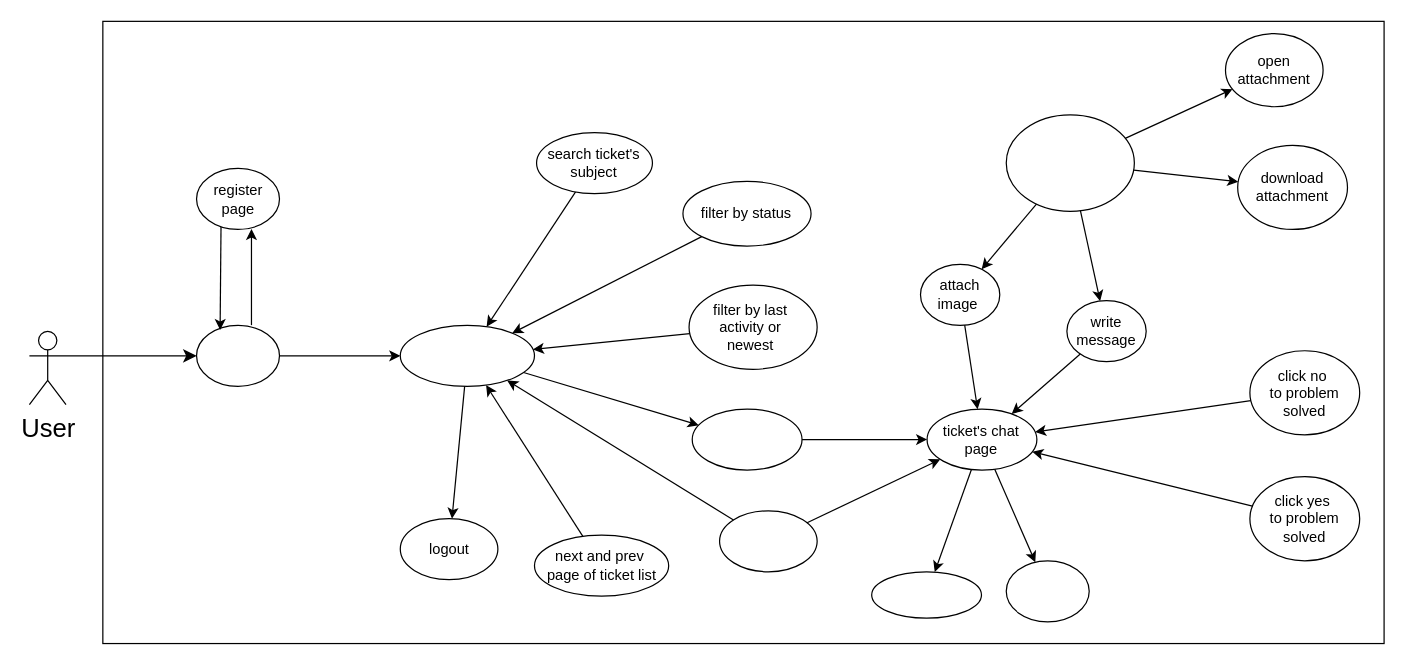
Some shapes in this 1405 by 665 pixel diagram are drawn without their labels. The shapes that lost their labels are listed below. From the top down, each one's centre as x and y in pixels, then its label:
At point 1069,162: "submit message or attachment or both".
At point 237,355: "login page".
At point 466,355: "User's list of ticket".
At point 746,439: "select ticket".
At point 767,541: "create new ticket".
At point 925,594: "back button".
At point 1047,591: "change ticket".
